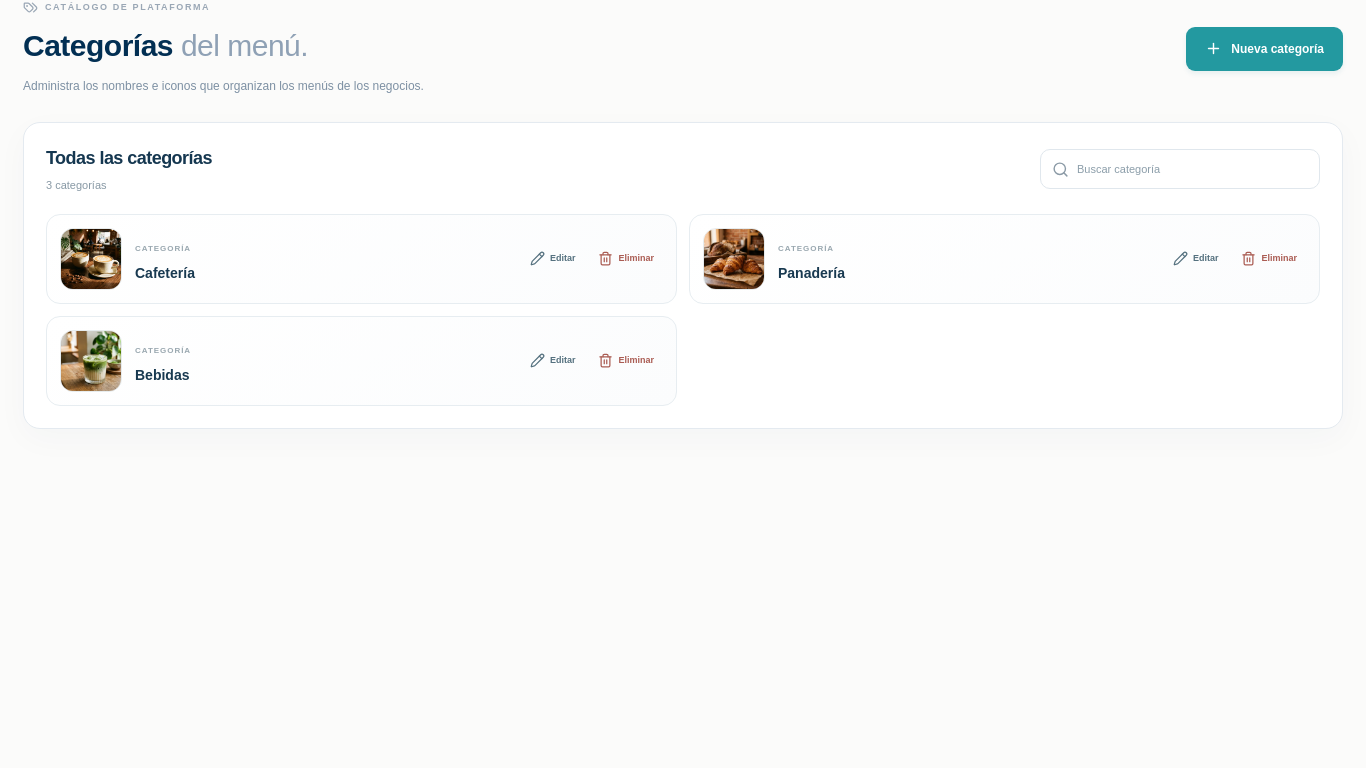
Test case: Administración de categorías › valida que se asigne un icono antes de crear una categoría
Expected: the heading "Categorías del menú." is shown, [23, 29, 308, 62]
Click the button "Nueva categoría" at (1265,48), box [1186, 26, 1343, 70]
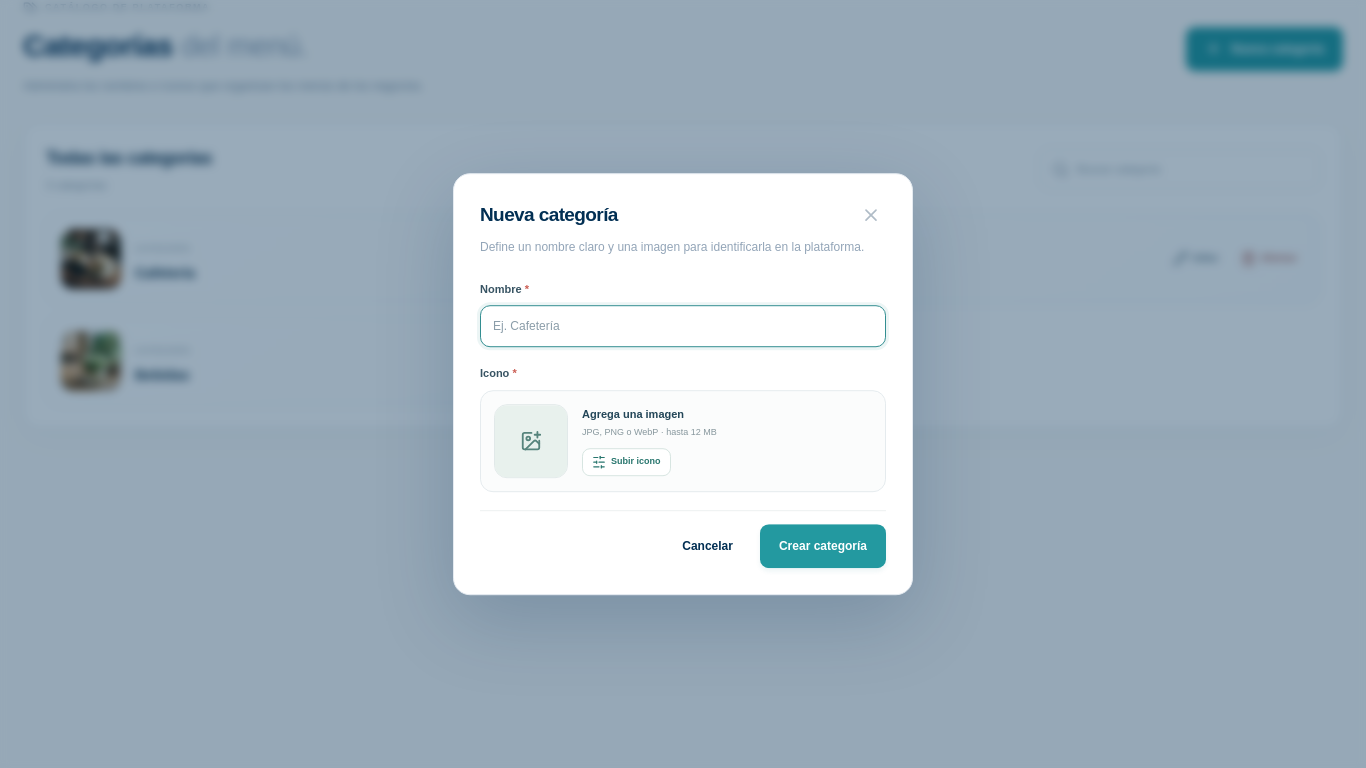
Type "Helados" into the field named "Nombre de la categoría" at (683,326), box [480, 305, 886, 347]
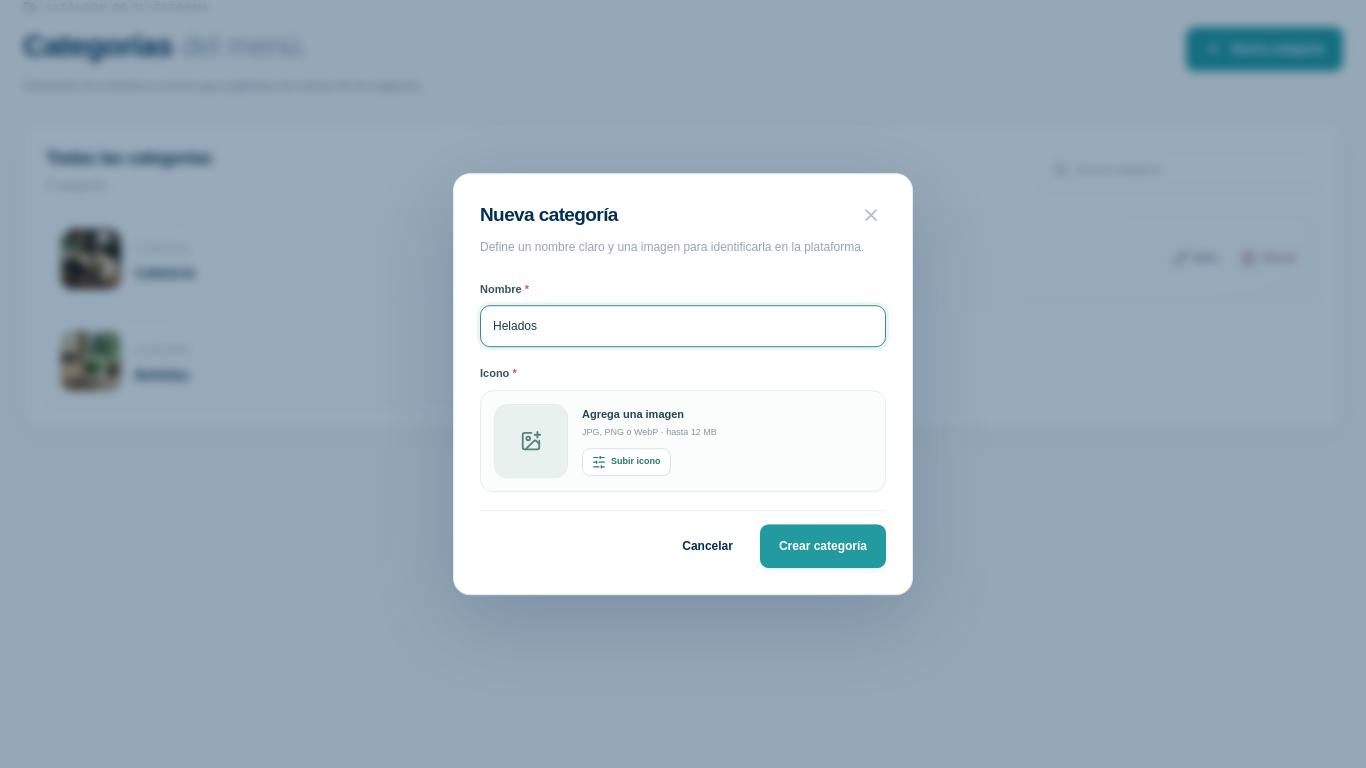
Click the button "Crear categoría" at (823,546), box [760, 524, 886, 568]
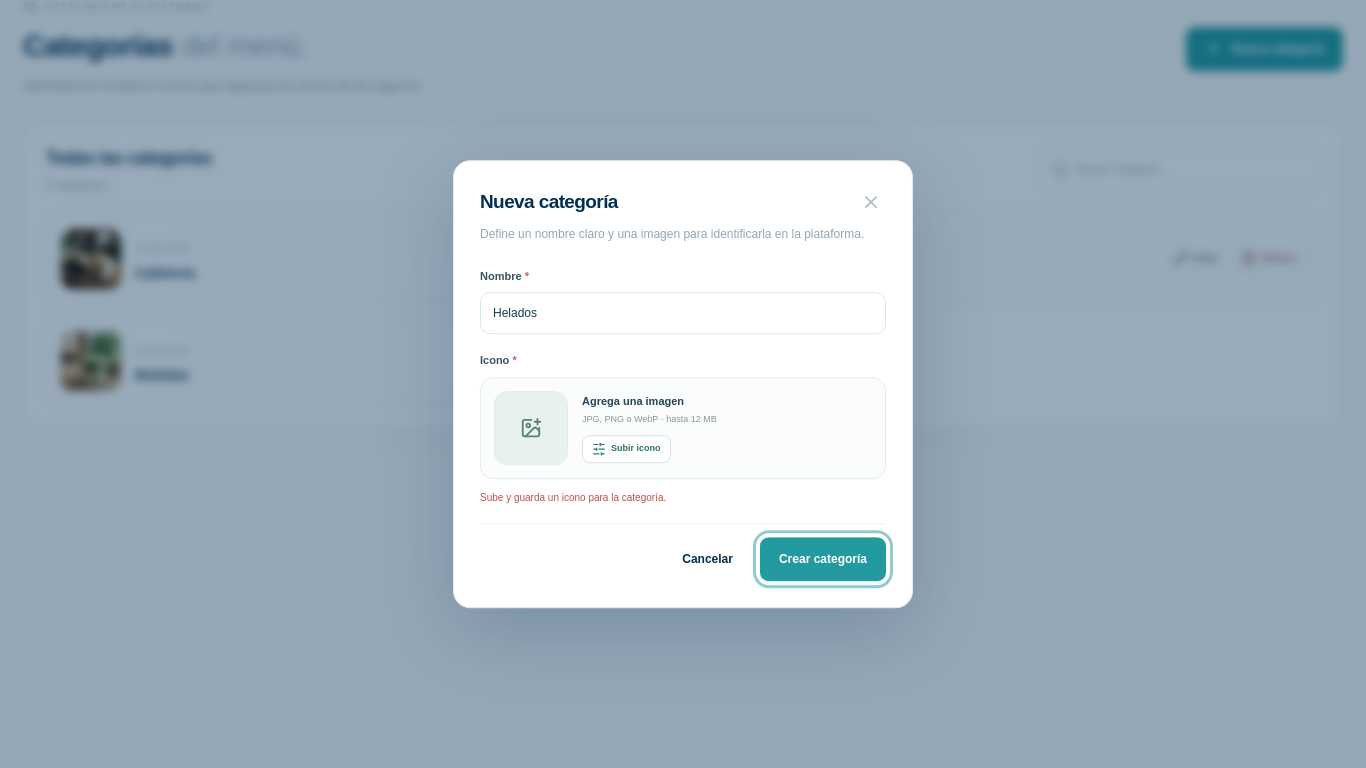
Result: the message shows "Sube y guarda un icono" at [480, 492, 666, 503]
